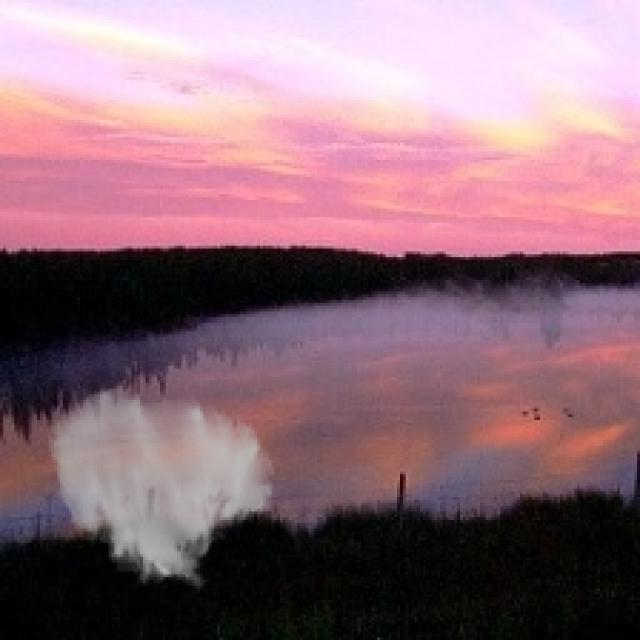Smoke: (45, 386, 278, 592)
